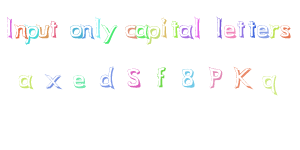8: (176, 65, 200, 92)
I: (3, 13, 14, 43)
K: (230, 65, 256, 93)
P: (204, 66, 227, 92)
S: (124, 66, 145, 93)
a: (14, 72, 37, 92), (134, 20, 149, 43), (179, 22, 194, 41)
c: (123, 19, 137, 42)
d: (95, 65, 122, 94)
e: (68, 71, 92, 92), (224, 21, 237, 41), (258, 22, 270, 43)
f: (151, 64, 171, 91)
i: (159, 15, 170, 41)
l: (193, 15, 205, 40), (94, 14, 103, 43), (214, 14, 223, 42)
n: (81, 20, 96, 43), (14, 21, 26, 45)
o: (68, 18, 82, 42)
p: (148, 21, 161, 46), (26, 24, 39, 46)
q: (260, 71, 283, 98)
r: (271, 22, 280, 42)
s: (280, 22, 293, 42)
t: (49, 17, 60, 43), (169, 19, 181, 41), (247, 18, 257, 42), (238, 17, 248, 40)
u: (37, 21, 50, 42)
x: (41, 68, 67, 95)
y: (101, 20, 119, 47)
